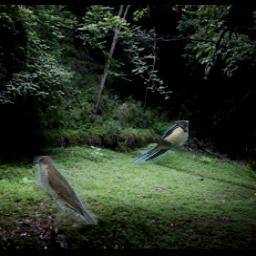Cuckoo: (33, 156, 98, 224)
Swallow: (131, 121, 188, 164)
